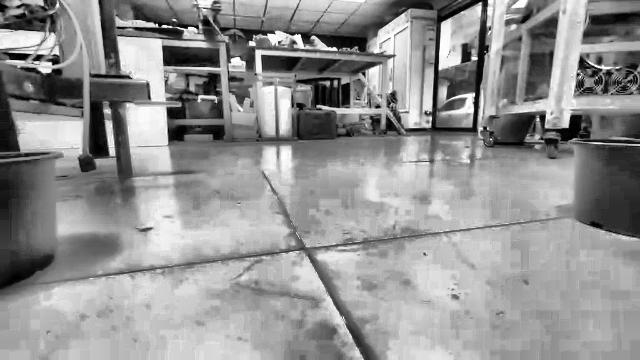pot: (0, 151, 62, 288), (572, 139, 639, 238)
